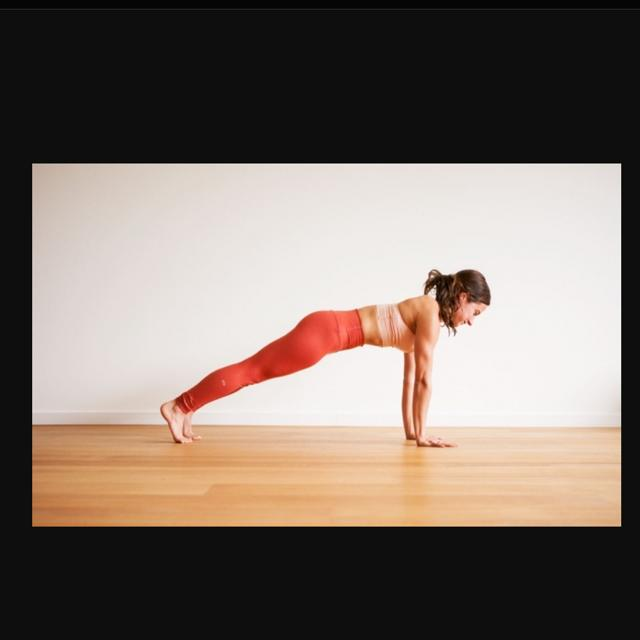Plank_Pose: (151, 256, 495, 448)
